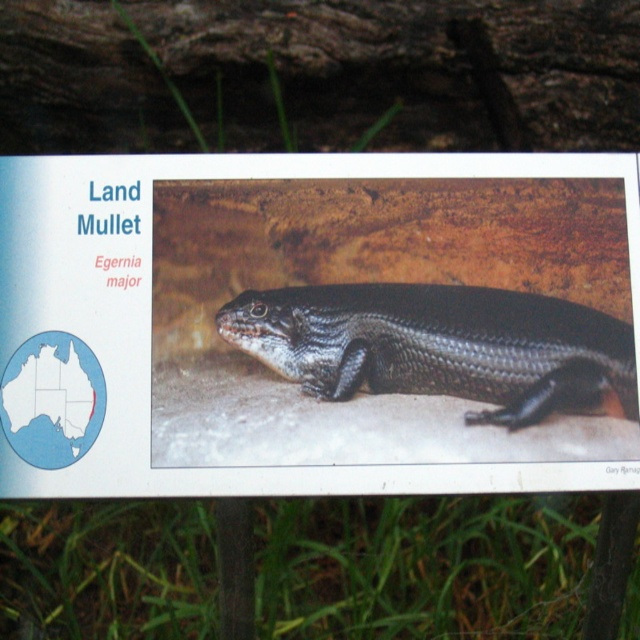Lizard: (203, 285, 640, 454)
